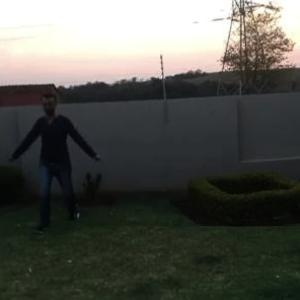land: (9, 102, 100, 230)
